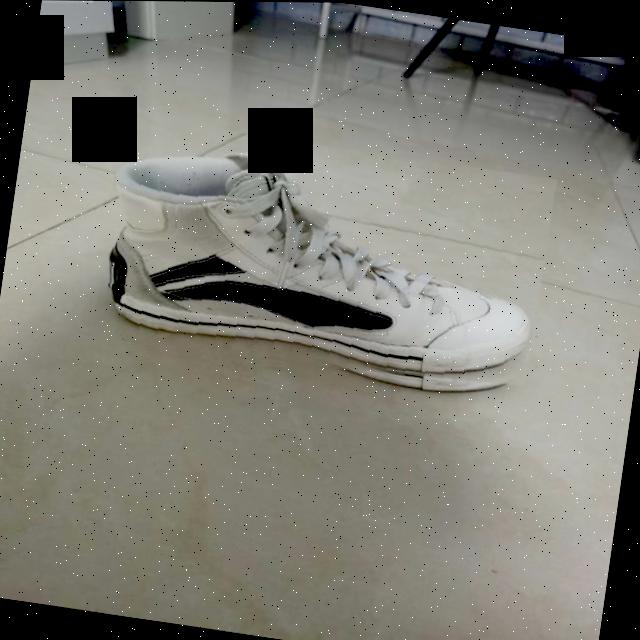shoe: (90, 116, 558, 408)
